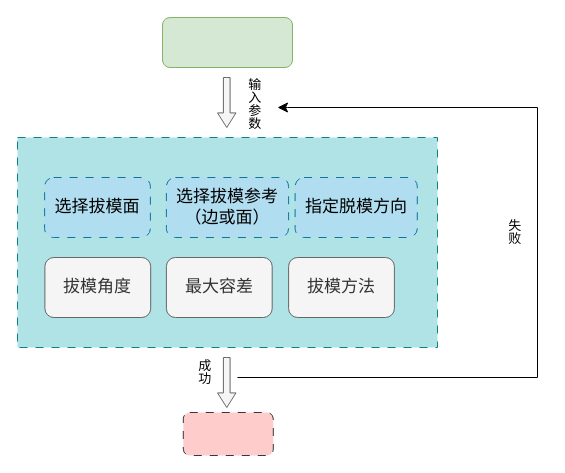
The diagram is 565 pixels wide and 473 high, and some of its shapes have lost their labels. The centre of each missing label's shape, as x and y in pixels:
"展示拔模效果" belongs at pixel 227 434.
"点集“面拔模”" belongs at pixel 227 42.
